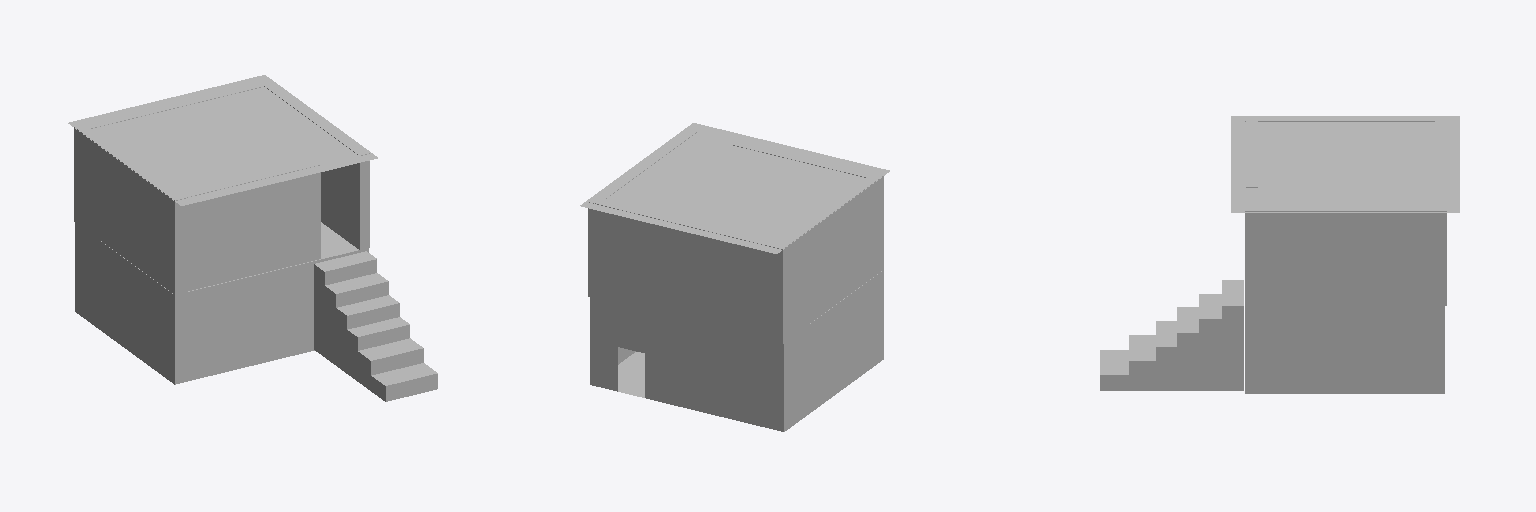
The model's file is house.obj.
The picture shows the model from 3 angles: view 1: azimuth 30°, elevation 25°; view 2: azimuth 150°, elevation 25°; view 3: azimuth 270°, elevation 25°; orthographic projection.
Visible parts, largest first — view 1: top_Cube.002, Basement.002_Cube.011, top.002_Cube.007, Stairs_Cube.005, top.004_Cube.009, Basement.003_Cube.012, top.001_Cube.006, top.003_Cube.008, Basement.009_Cube.018; view 2: top.003_Cube.008, top_Cube.002, Basement.004_Cube.013, top.004_Cube.009, Basement.003_Cube.012, Basement.005_Cube.014, Basement.006_Cube.015, top.001_Cube.006, Basement.007_Cube.016, top.002_Cube.007; view 3: top.001_Cube.006, top_Cube.002, Basement.001_Cube.010, Stairs_Cube.005, top.004_Cube.009, top.003_Cube.008, top.002_Cube.007.
Boxes of the visible parts, box(x1,y1,x2,y2) form: top_Cube.002: box(68, 75, 377, 205); Basement.002_Cube.011: box(175, 248, 368, 384); top.002_Cube.007: box(179, 160, 320, 291); Stairs_Cube.005: box(314, 251, 437, 401); top.004_Cube.009: box(74, 124, 185, 294); Basement.003_Cube.012: box(75, 223, 174, 384); top.001_Cube.006: box(259, 80, 369, 249); top.003_Cube.008: box(75, 79, 268, 128); Basement.009_Cube.018: box(262, 222, 358, 273); top.003_Cube.008: box(588, 200, 781, 343); top_Cube.002: box(580, 123, 889, 253); Basement.004_Cube.013: box(645, 311, 783, 431); top.004_Cube.009: box(773, 173, 883, 343); Basement.003_Cube.012: box(784, 270, 883, 431); Basement.005_Cube.014: box(590, 297, 617, 391); Basement.006_Cube.015: box(618, 304, 644, 352); top.001_Cube.006: box(588, 128, 698, 203); Basement.007_Cube.016: box(618, 352, 644, 397); top.002_Cube.007: box(731, 140, 871, 177); top.001_Cube.006: box(1245, 206, 1446, 305); top_Cube.002: box(1231, 116, 1459, 212); Basement.001_Cube.010: box(1245, 306, 1444, 393); Stairs_Cube.005: box(1100, 280, 1243, 390); top.004_Cube.009: box(1245, 116, 1446, 121); top.003_Cube.008: box(1435, 121, 1446, 205); top.002_Cube.007: box(1246, 121, 1257, 187).
Size of the model in its own units: 9.24 by 8.22 by 14.55.